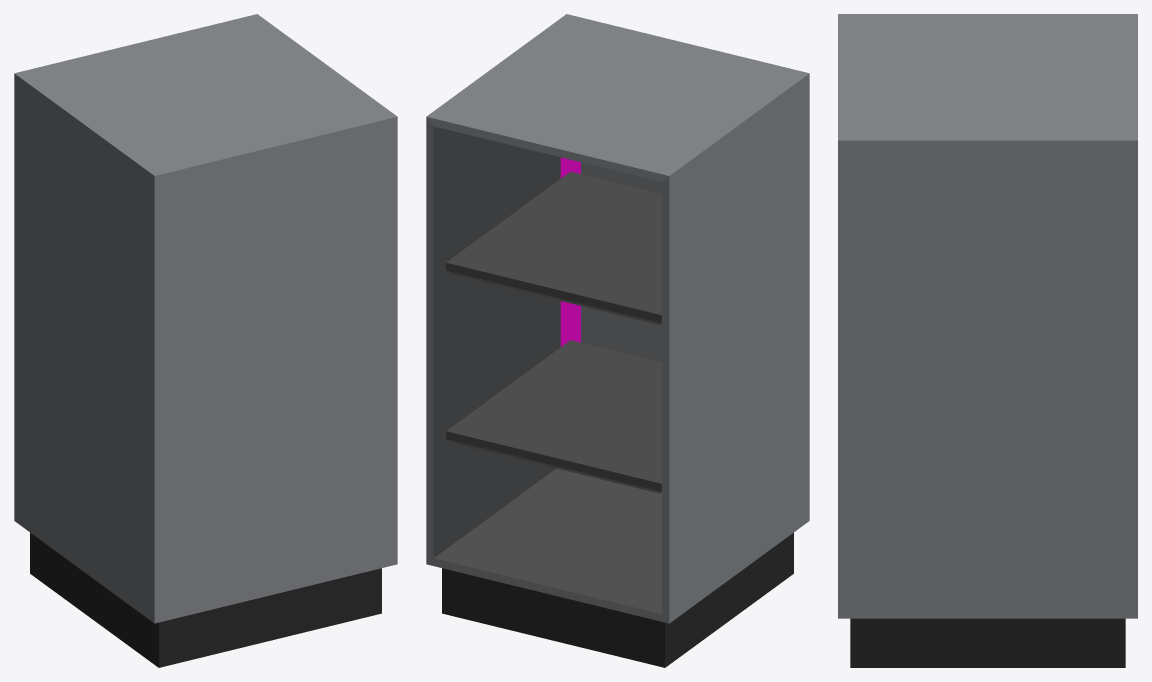
Rendered from DarkFridge.fbx.
3 renders of one model, left to right at view 1: azimuth 30°, elevation 25°; view 2: azimuth 150°, elevation 25°; view 3: azimuth 270°, elevation 25°, orthographic. The views are drawn at different scales.
Visible parts, largest first — view 1: DarkFridge; view 2: DarkFridge; view 3: DarkFridge.
Part boxes in pixels (<box>): DarkFridge: <box>14,14,397,667</box>; DarkFridge: <box>426,14,809,667</box>; DarkFridge: <box>838,14,1137,667</box>.
Bounding box in the file's own units: 102 × 200 × 102.
